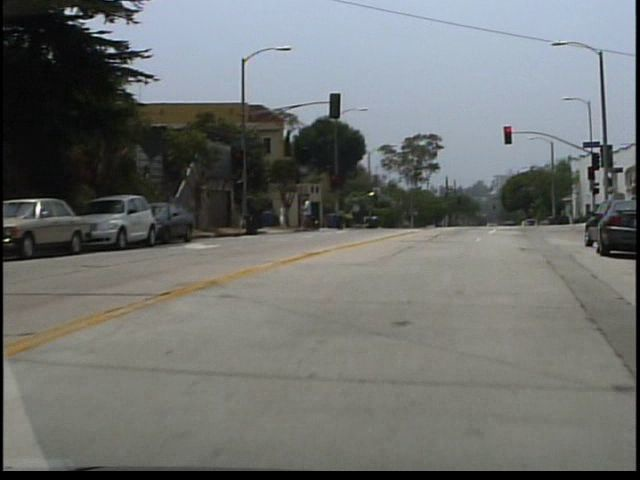person: (306, 198, 319, 235), (283, 203, 292, 233)
